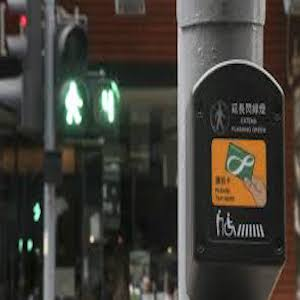green: (58, 80, 90, 127)
